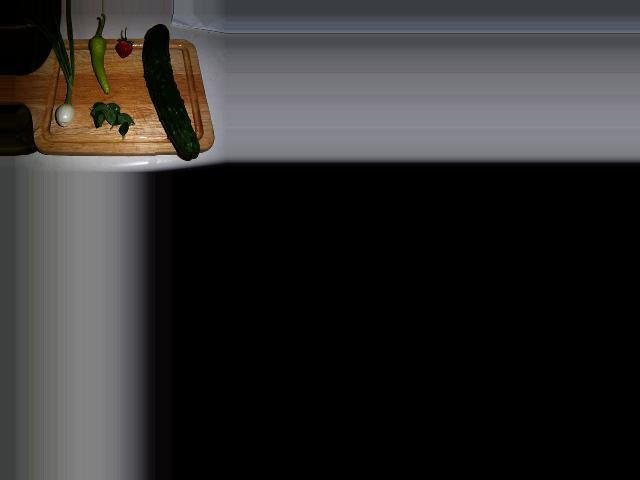cucumber: (143, 25, 200, 159)
